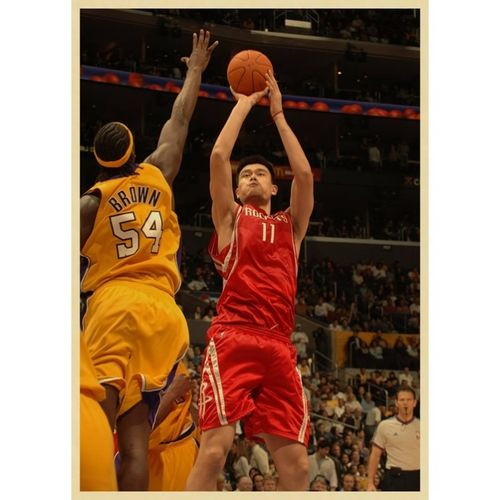ball: (227, 49, 274, 96), (93, 122, 132, 163)
